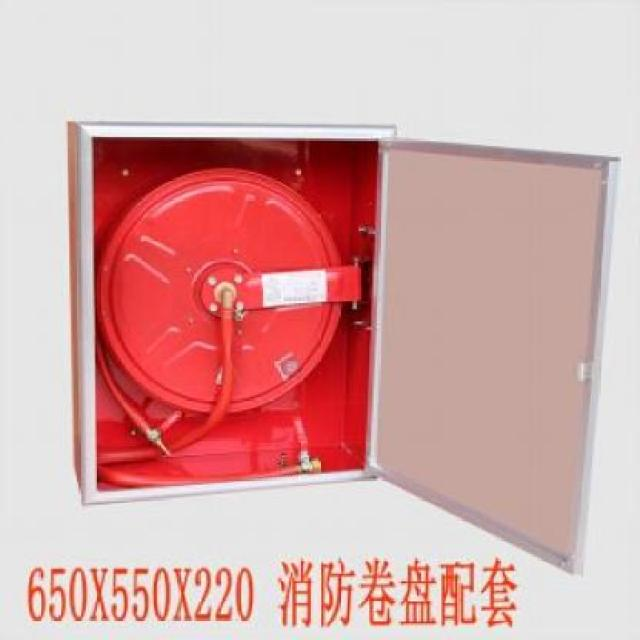firehydrant: (60, 112, 625, 586)
